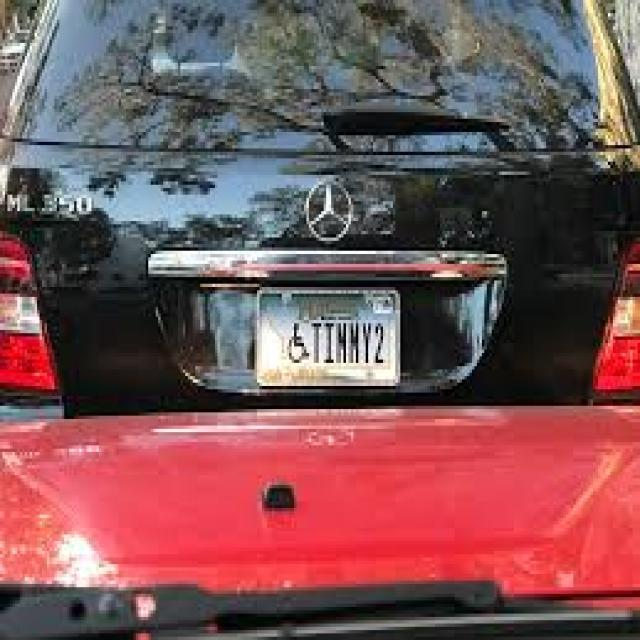symbol_of_access: (286, 322, 310, 362)
